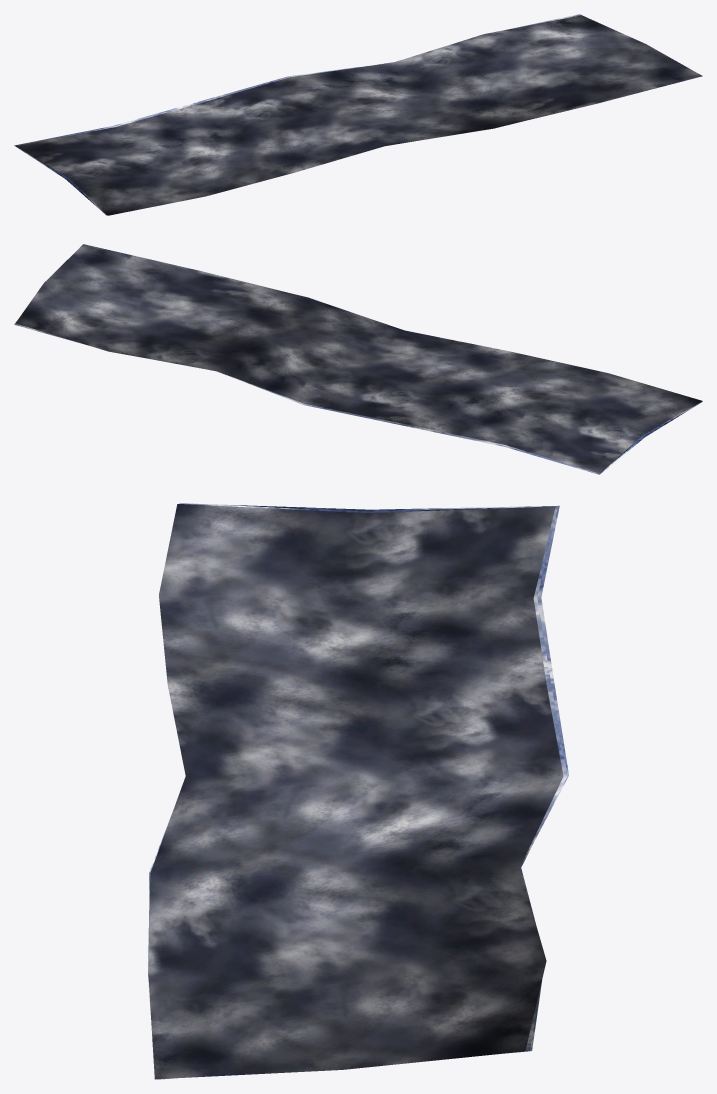
The model's file is LONE_MOUNTAIN_WATERFALLS_MAIN_WATERFALL_BILLOWS04.fbx.
3 views of the same model, one above another, from view 1: azimuth 30°, elevation 25°; view 2: azimuth 150°, elevation 25°; view 3: azimuth 270°, elevation 25° (orthographic). The views are drawn at different scales.
Visible parts, largest first — view 1: LONE_MOUNTAIN_WATERFALLS_MAIN_WATERFALL_BILLOWS04; view 2: LONE_MOUNTAIN_WATERFALLS_MAIN_WATERFALL_BILLOWS04; view 3: LONE_MOUNTAIN_WATERFALLS_MAIN_WATERFALL_BILLOWS04.
Part boxes in pixels (x1,y1,x2,y2): LONE_MOUNTAIN_WATERFALLS_MAIN_WATERFALL_BILLOWS04: (14,14,702,215); LONE_MOUNTAIN_WATERFALLS_MAIN_WATERFALL_BILLOWS04: (14,244,702,474); LONE_MOUNTAIN_WATERFALLS_MAIN_WATERFALL_BILLOWS04: (148,503,568,1079).
Size of the model in its own units: 103616 by 26.01 by 32000.
2 materials, 2 textured.
